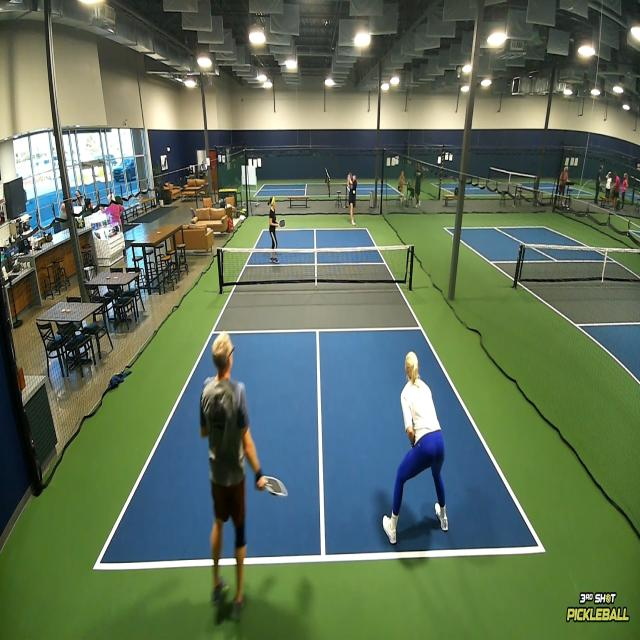Pickleball: (353, 190, 355, 194)
